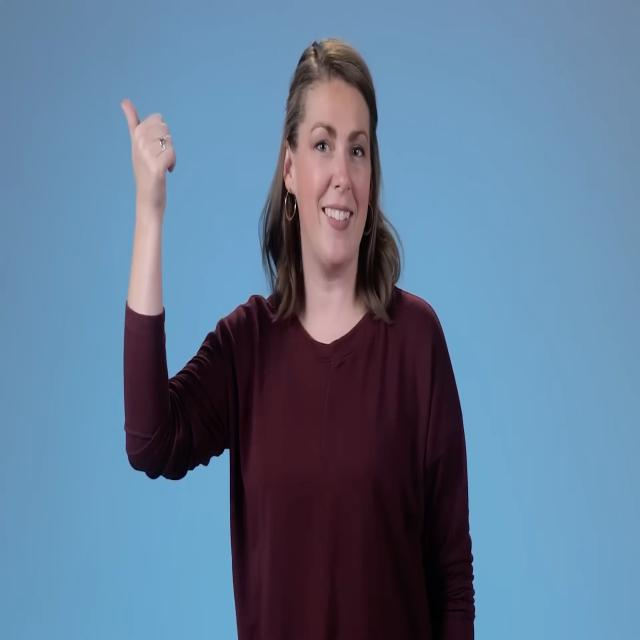forget: (89, 92, 212, 230)
